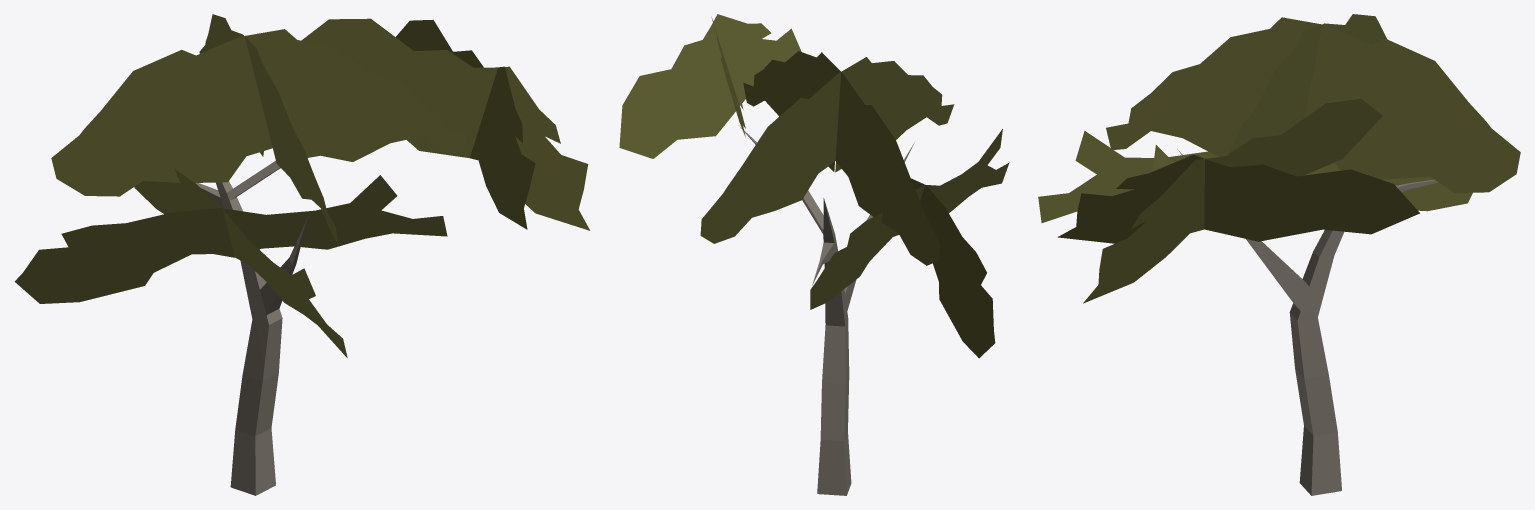
Rendered from Tree12.fbx.
3 views of the same model, side by side, from view 1: azimuth 30°, elevation 25°; view 2: azimuth 150°, elevation 25°; view 3: azimuth 270°, elevation 25° (orthographic). The views are drawn at different scales.
Parts seen in each view (by area): view 1: Flat_half_tree.012; view 2: Flat_half_tree.012; view 3: Flat_half_tree.012.
Part boxes in pixels (x1,y1,x2,y2): Flat_half_tree.012: (14, 14, 590, 495); Flat_half_tree.012: (619, 14, 1009, 495); Flat_half_tree.012: (1038, 14, 1520, 495).
Bounding box in the file's own units: 3.74 × 3.78 × 3.55.
